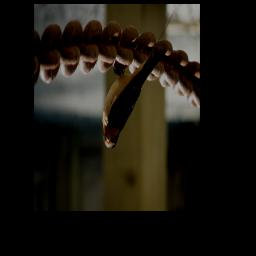Swallow: (101, 9, 176, 149)
